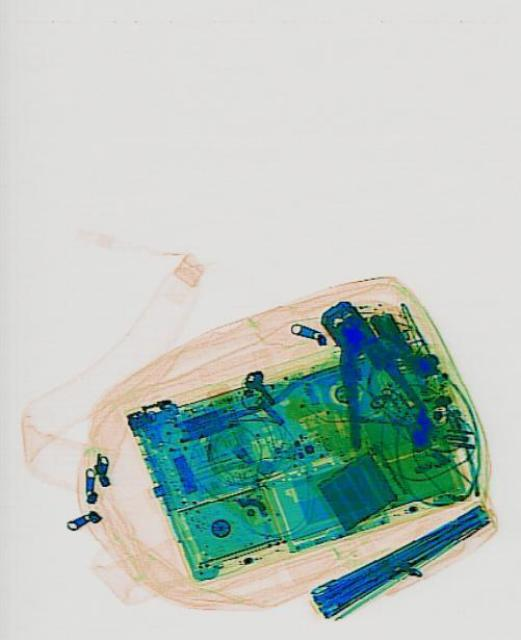Pliers: (290, 282, 427, 454)
